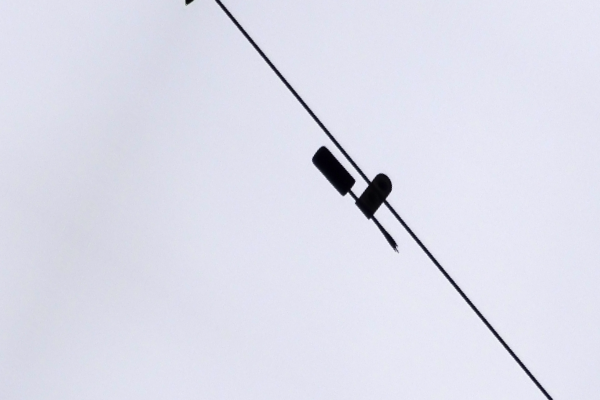damper_defect: (306, 142, 403, 255)
